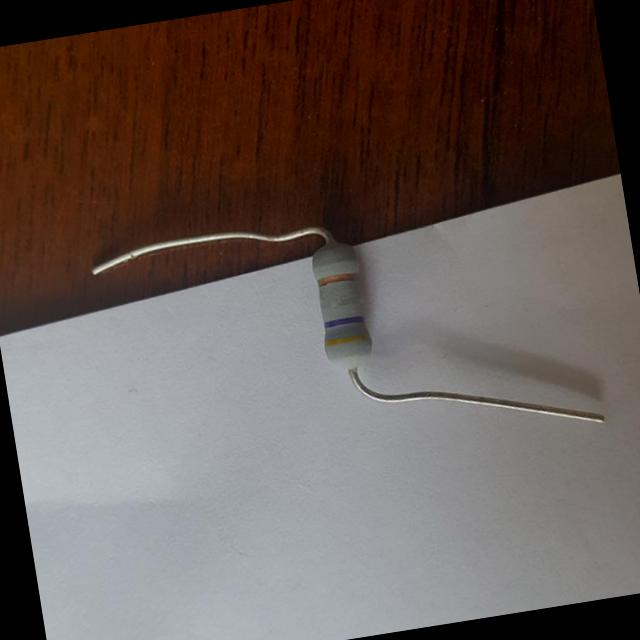Resistor: (313, 240, 372, 370)
gold: (316, 272, 360, 284)
purple: (320, 315, 365, 327)
silver: (316, 297, 363, 308)
yellow: (322, 333, 371, 345)
